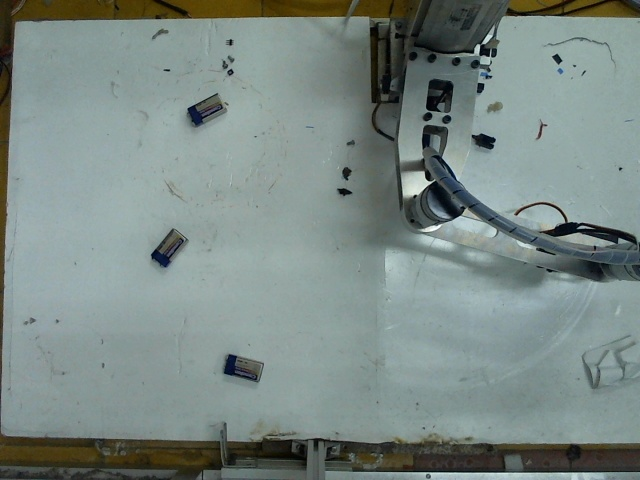battery: (218, 348, 267, 380), (151, 223, 187, 266), (187, 92, 223, 127)
